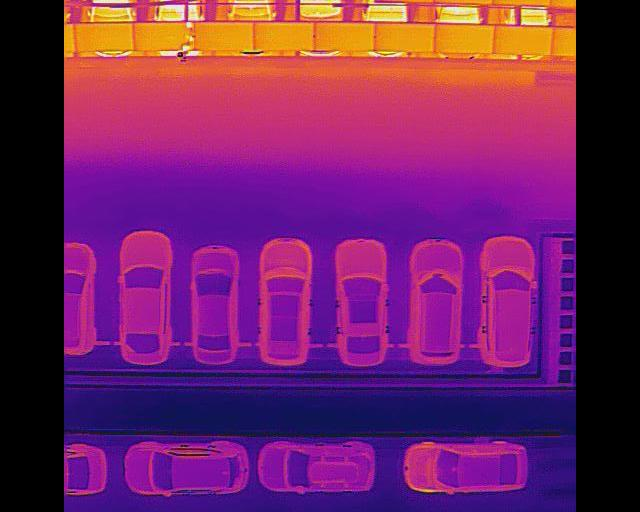Cell-Multi: (133, 21, 195, 51)
No-Anomaly: (434, 23, 493, 55), (254, 20, 314, 51), (75, 20, 133, 51), (314, 22, 376, 51), (494, 26, 554, 55), (375, 23, 435, 51), (195, 22, 253, 50), (493, 0, 551, 6)
